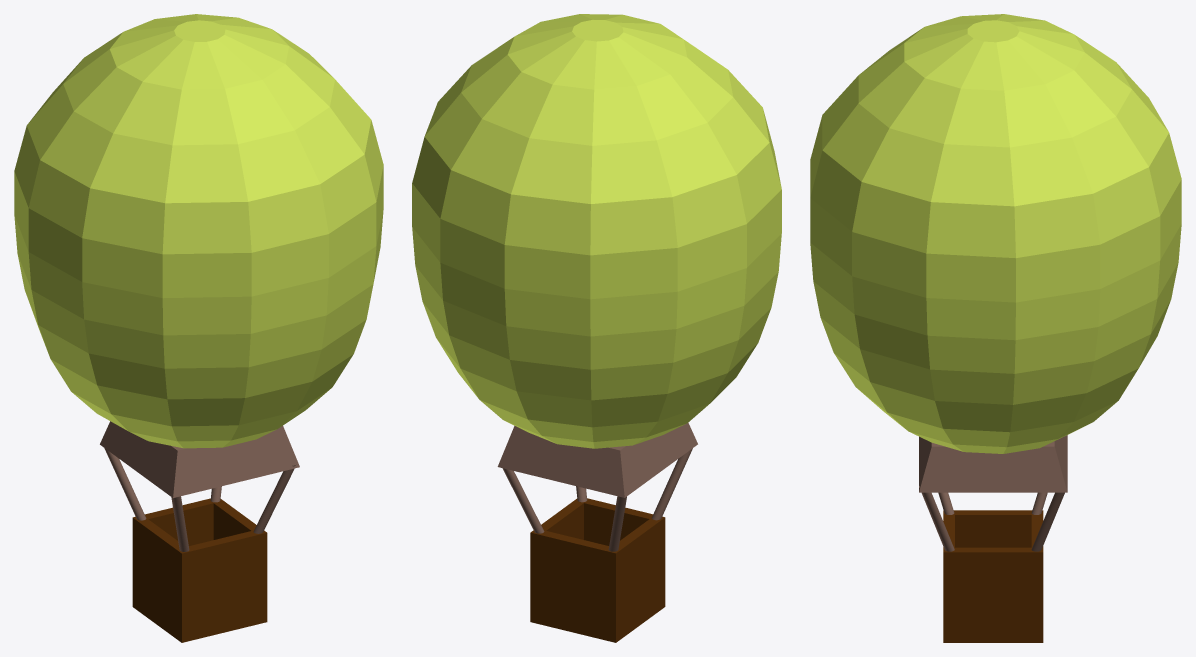
The model's file is HotAirBalloon2.fbx.
The picture shows the model from 3 angles, left to right: view 1: azimuth 30°, elevation 25°; view 2: azimuth 150°, elevation 25°; view 3: azimuth 270°, elevation 25°; orthographic projection.
Parts seen in each view (by area): view 1: Circle, Cube, Cube.001, Cylinder.001, Cylinder.003, Cylinder.002; view 2: Circle, Cube, Cube.001, Cylinder.002, Cylinder, Cylinder.001; view 3: Circle, Cube, Cube.001, Cylinder.003, Cylinder.
Part boxes in pixels (x1,y1,x2,y2): Circle: (14, 14, 383, 448); Cube: (132, 498, 267, 642); Cube.001: (100, 421, 299, 497); Cylinder.001: (104, 448, 146, 520); Cylinder.003: (253, 464, 295, 533); Cylinder.002: (171, 496, 189, 551); Circle: (412, 14, 781, 448); Cube: (530, 498, 665, 642); Cube.001: (497, 422, 697, 497); Cylinder.002: (651, 448, 692, 520); Cylinder: (502, 468, 544, 533); Cylinder.001: (608, 496, 626, 551); Circle: (810, 14, 1181, 453); Cube: (943, 510, 1043, 642); Cube.001: (919, 435, 1067, 492); Cylinder.003: (919, 486, 954, 551); Cylinder: (1031, 492, 1064, 551).
Bounding box in the file's own units: 749 × 1304 × 744.
